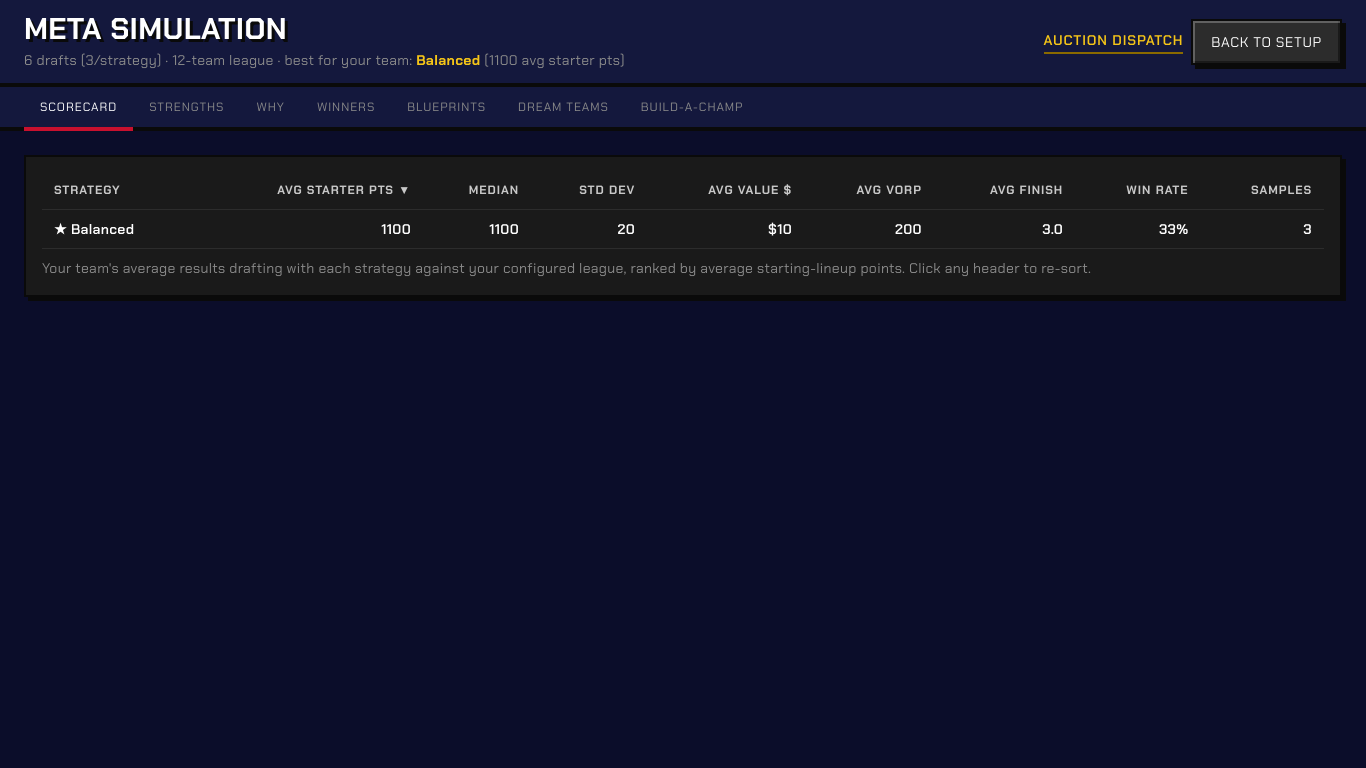
it: MetaSimulationReport — Winners & Points tabs › Winners tab shows the win-rate table and the Avg Points column
The image size is (1366, 768).
What coordinates should you click on to do the following:
click the button "Winners"
I would click on:
 (346, 109)
Its box is [301, 87, 391, 131].
(page scrolled)
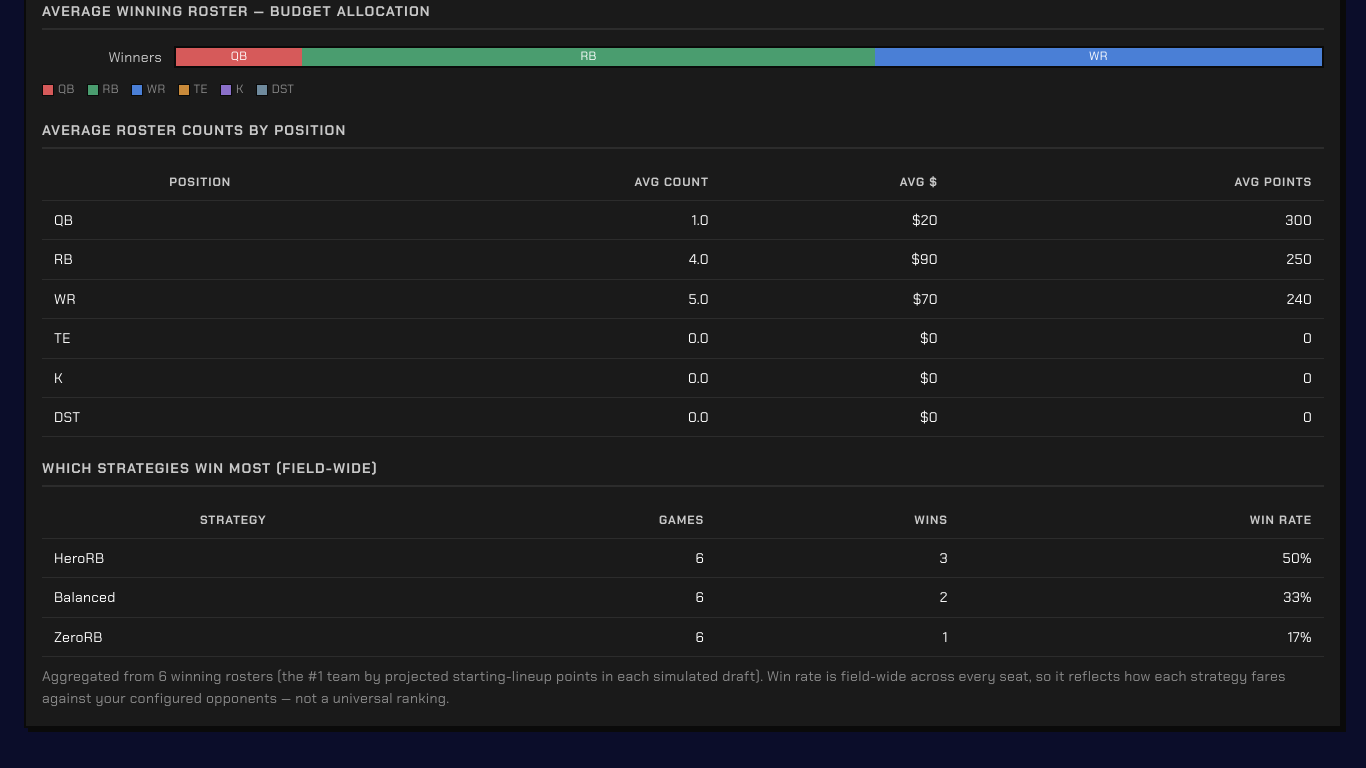
Expected: the heading "Which strategies win most (field-wide)" is shown, [42, 461, 1324, 487]
Expected: the text "HeroRB" is shown, [42, 538, 424, 578]
Expected: the column heading "Avg Points" is shown, [950, 165, 1324, 200]
